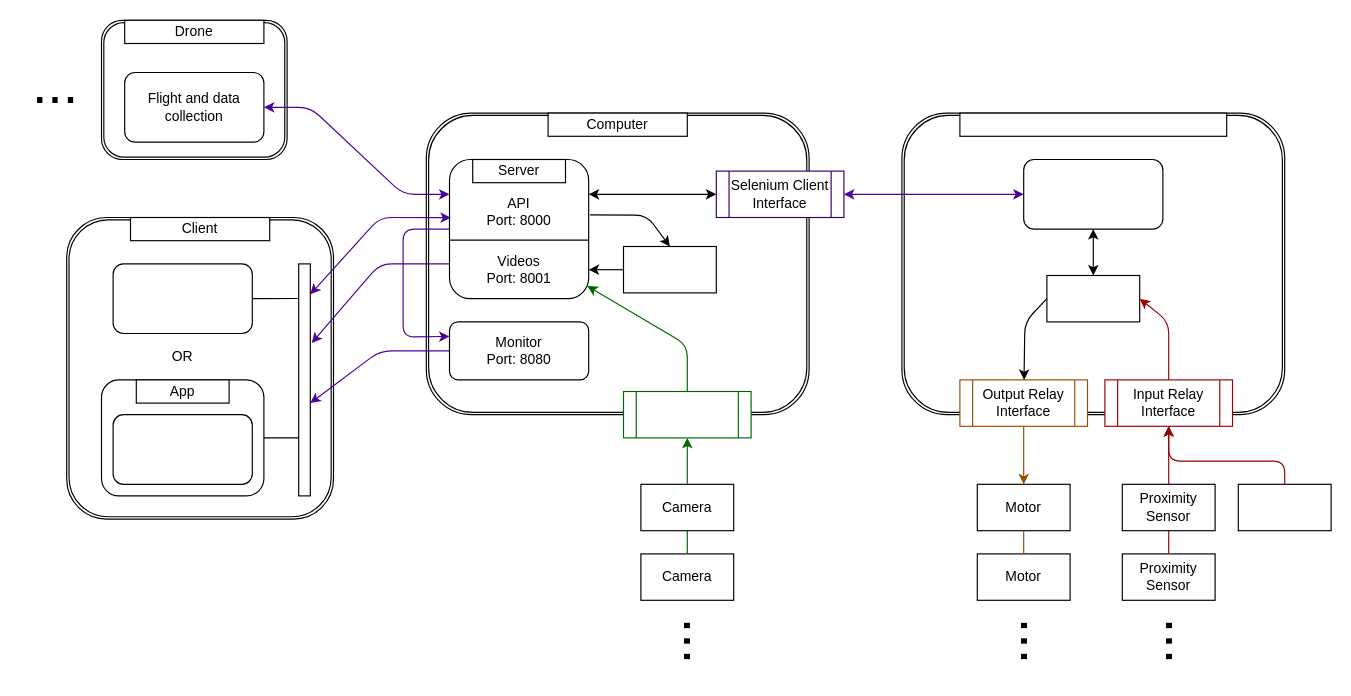
Some shapes in this 1351 by 696 pixel diagram are drawn without their labels. Here are the shapes that lost their labels. From the top down, the centre of each, then its label:
At point (1093, 124): "Programmable Logic Controller (PLC)".
At point (1093, 193): "Server Port: 80 (Default)".
At point (669, 269): "Image files".
At point (182, 298): "Browser".
At point (1093, 298): "Internal State Data".
At point (686, 414): "USB Interface".
At point (182, 449): "Web view".
At point (1284, 507): "Power Switch".
